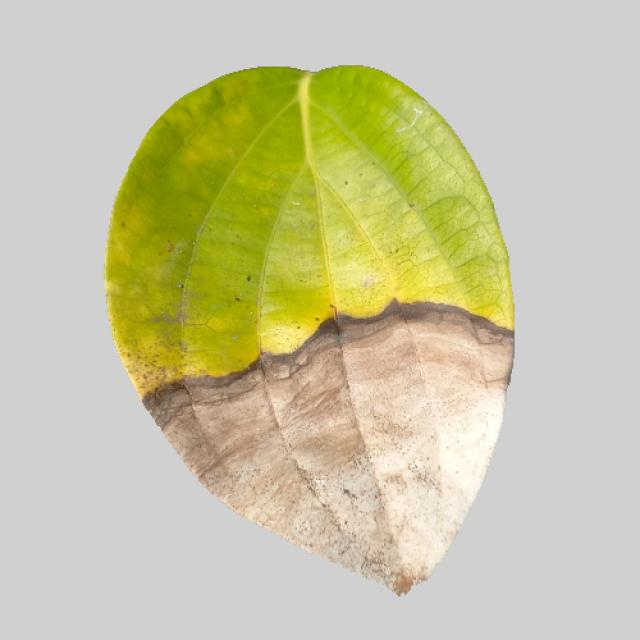leaf-blight: (76, 83, 531, 620)
